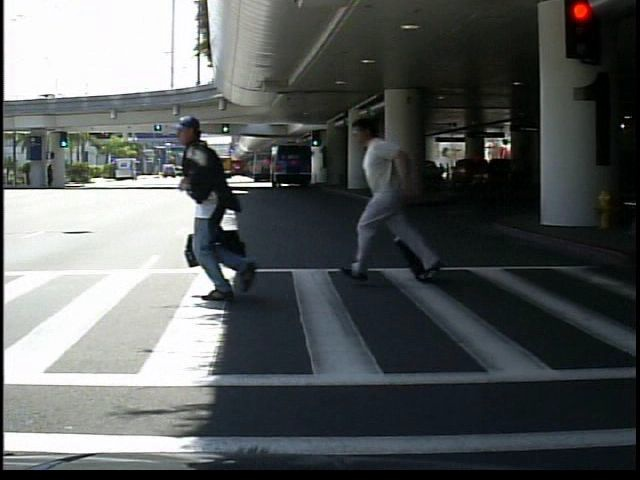person: (173, 115, 260, 304), (361, 113, 425, 287)
